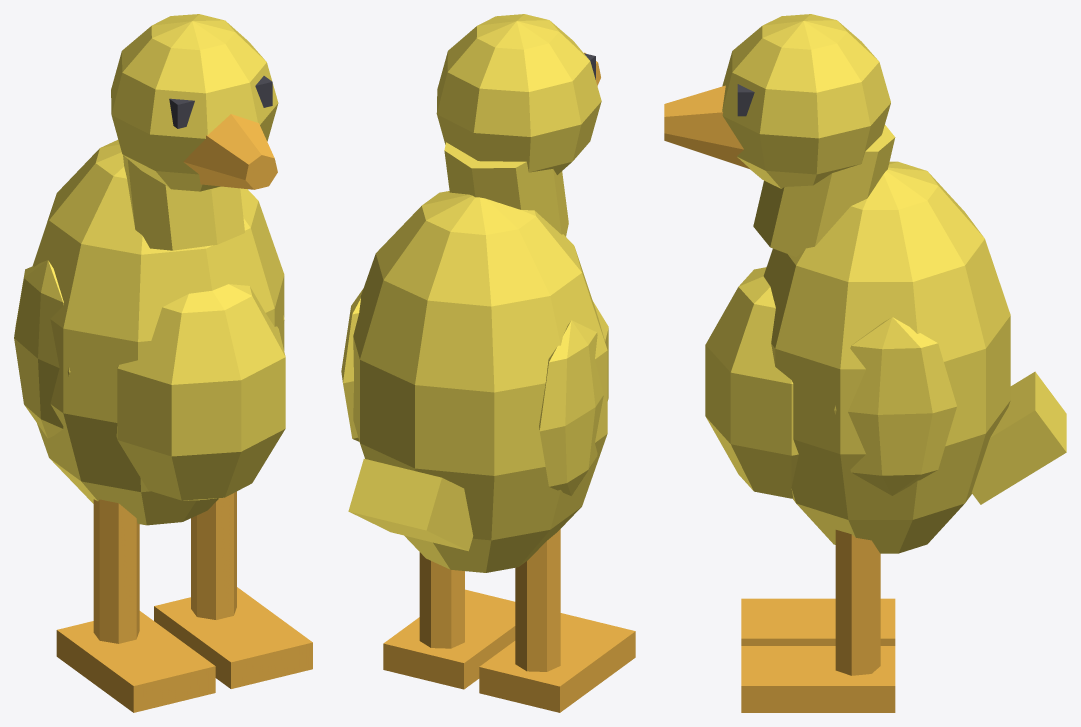
File: duck.glb
3 views of the same model, side by side, from view 1: azimuth 30°, elevation 25°; view 2: azimuth 150°, elevation 25°; view 3: azimuth 270°, elevation 25° (orthographic).
Visible parts, largest first — view 1: duck; view 2: duck; view 3: duck.
Part boxes in pixels (x1,y1,x2,y2): duck: [14, 14, 312, 712]; duck: [341, 14, 635, 712]; duck: [664, 14, 1066, 712].
Size of the model in its own units: 0.1829 by 0.4829 by 0.2716.
